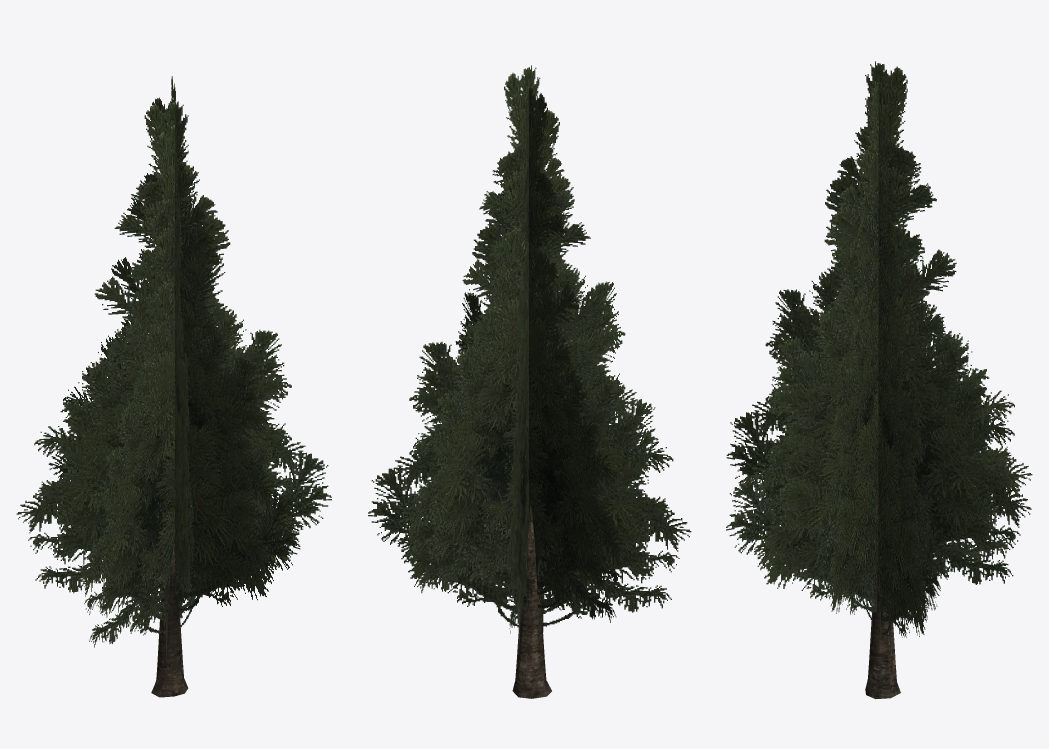
Rendered from tree_rt_1.glb.
3 views of the same model, side by side, from view 1: azimuth 30°, elevation 25°; view 2: azimuth 150°, elevation 25°; view 3: azimuth 270°, elevation 25° (orthographic). The views are drawn at different scales.
Visible parts, largest first — view 1: tree_rt_1; view 2: tree_rt_1; view 3: tree_rt_1.
Part boxes in pixels (x1=…): tree_rt_1: x1=16, y1=76, x2=331, y2=697; tree_rt_1: x1=368, y1=65, x2=691, y2=698; tree_rt_1: x1=726, y1=61, x2=1032, y2=699.
Bounding box in the file's own units: 1 × 2.24 × 1.
2 materials, 2 textured.
